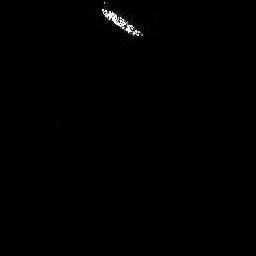ship: (97, 4, 144, 39)
